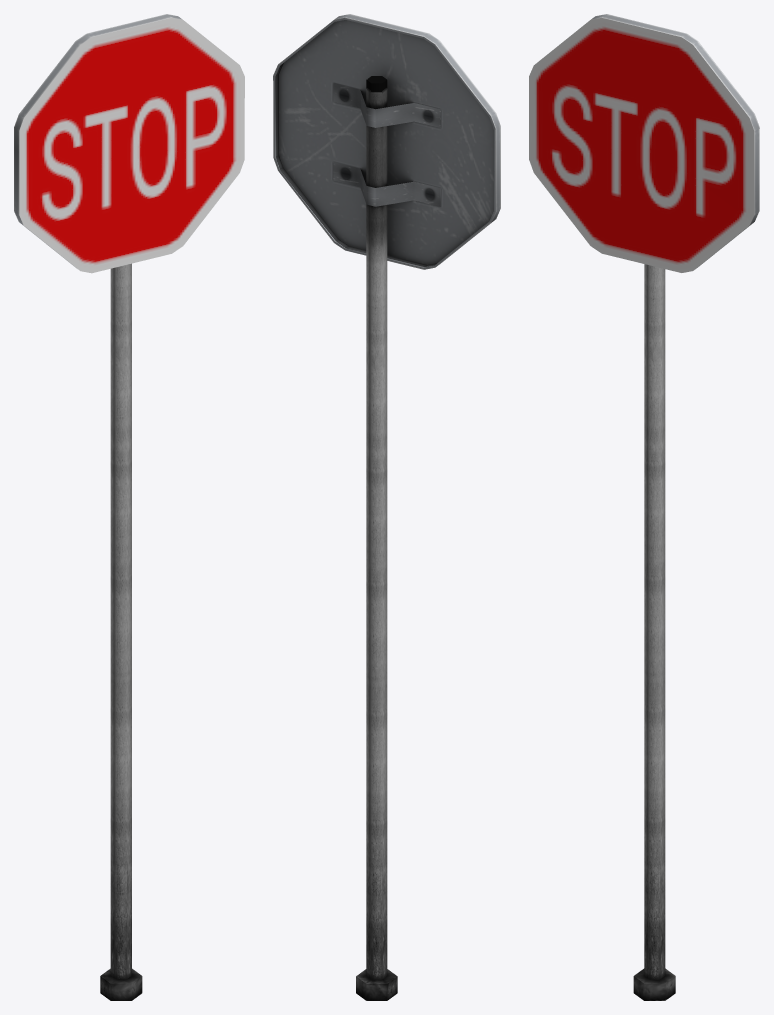
Rendered from StopSignal.glb.
The picture shows the model from 3 angles, left to right: view 1: azimuth 30°, elevation 25°; view 2: azimuth 150°, elevation 25°; view 3: azimuth 330°, elevation 25°; orthographic projection.
Visible parts, largest first — view 1: Priority_Stop_LOD0_RoadSignAtlas1Material_0; view 2: Priority_Stop_LOD0_RoadSignAtlas1Material_0; view 3: Priority_Stop_LOD0_RoadSignAtlas1Material_0.
Boxes of the visible parts, bbox=[...] form: Priority_Stop_LOD0_RoadSignAtlas1Material_0: bbox=[14, 14, 244, 1000]; Priority_Stop_LOD0_RoadSignAtlas1Material_0: bbox=[273, 14, 500, 1000]; Priority_Stop_LOD0_RoadSignAtlas1Material_0: bbox=[529, 14, 759, 1000].
Bounding box in the file's own units: 0.7 × 2.89 × 0.1207.
1 material, 1 textured.
